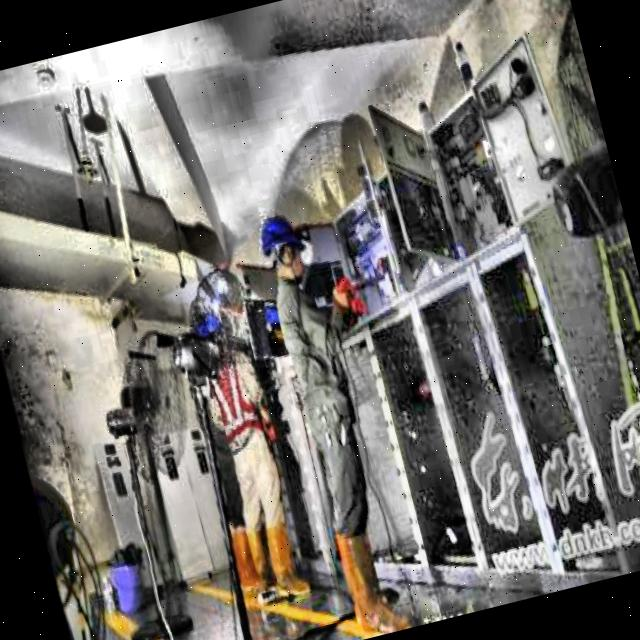helmet: (249, 204, 313, 294)
